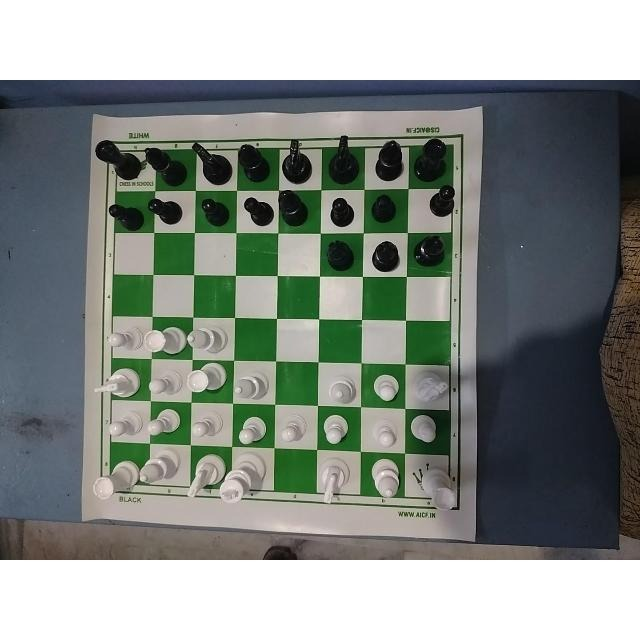black-bishop: (144, 142, 188, 189), (373, 138, 406, 183), (277, 188, 313, 229), (415, 231, 451, 272), (237, 143, 270, 186), (371, 237, 403, 278), (324, 239, 357, 277)
black-knight: (190, 142, 234, 187), (328, 135, 364, 185), (277, 136, 313, 184)
black-pawn: (104, 197, 144, 234), (149, 191, 183, 231), (425, 187, 461, 221), (198, 195, 229, 231), (373, 191, 401, 228), (329, 194, 356, 230), (241, 195, 274, 224)
black-rook: (95, 135, 140, 183), (415, 133, 456, 181)
white-bishop: (144, 448, 180, 496), (368, 457, 402, 500), (232, 371, 275, 401), (188, 324, 228, 356), (327, 375, 361, 407)
white-king: (224, 459, 280, 503)
white-knight: (96, 356, 140, 400), (404, 368, 451, 409), (317, 460, 355, 504), (186, 459, 218, 501)
white-pawn: (407, 409, 447, 453), (144, 369, 183, 405), (103, 324, 144, 356), (367, 417, 403, 453), (188, 407, 225, 441), (320, 411, 352, 450), (105, 407, 141, 441), (370, 369, 401, 408), (146, 408, 183, 440), (237, 411, 265, 445), (280, 414, 307, 445)
white-rook: (418, 468, 462, 514), (90, 458, 138, 497), (188, 362, 226, 397), (147, 324, 185, 354)
